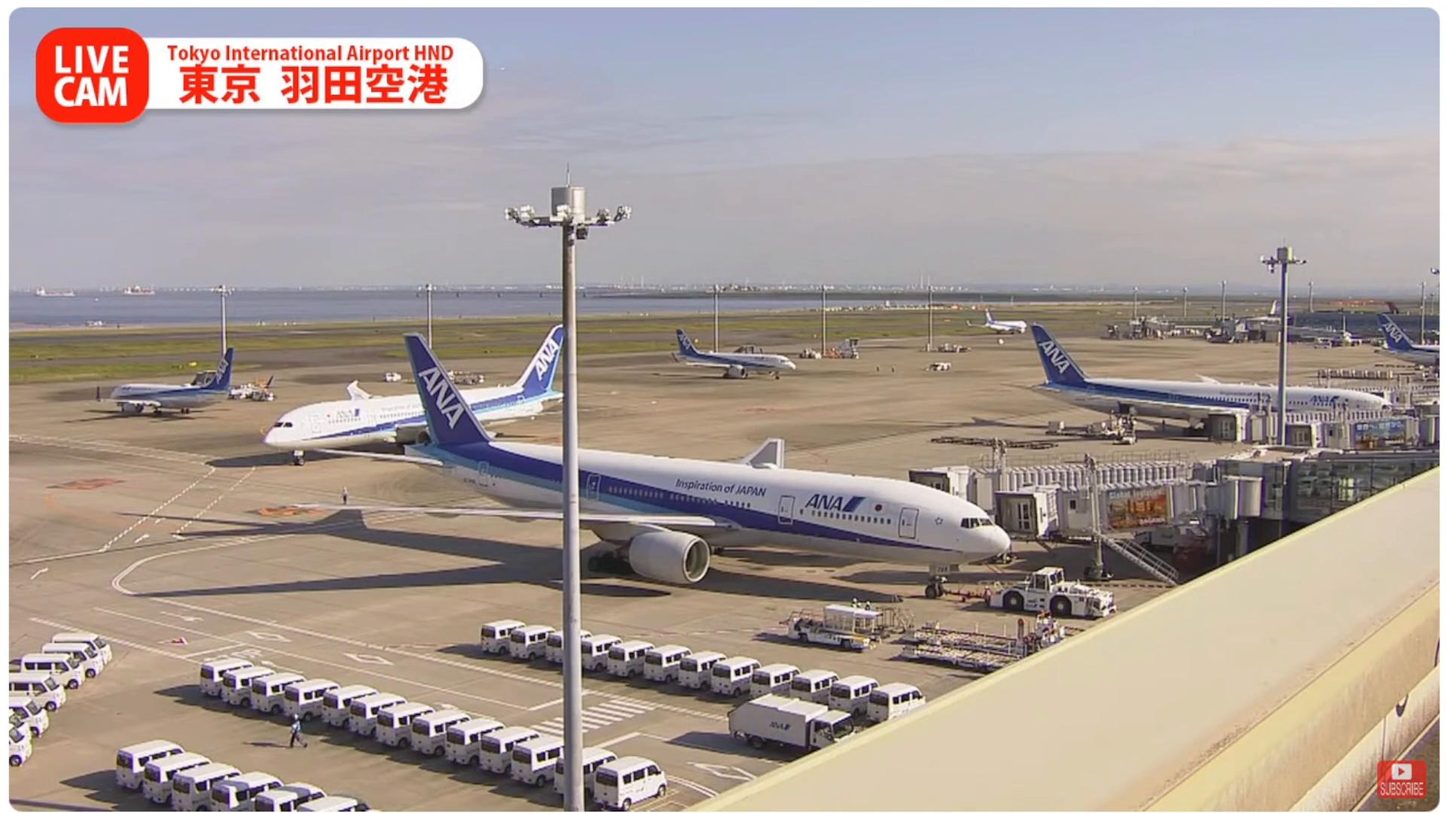APS: (988, 564, 1121, 622)
Aerobridge: (956, 480, 1243, 535), (885, 461, 1213, 481)
Airplane: (290, 330, 1014, 584)
Baggage truck: (728, 692, 878, 759)
JCPL: (908, 609, 1089, 658), (897, 639, 1033, 671)
Skyloader: (780, 599, 897, 653)
Window: (1270, 448, 1442, 536)
